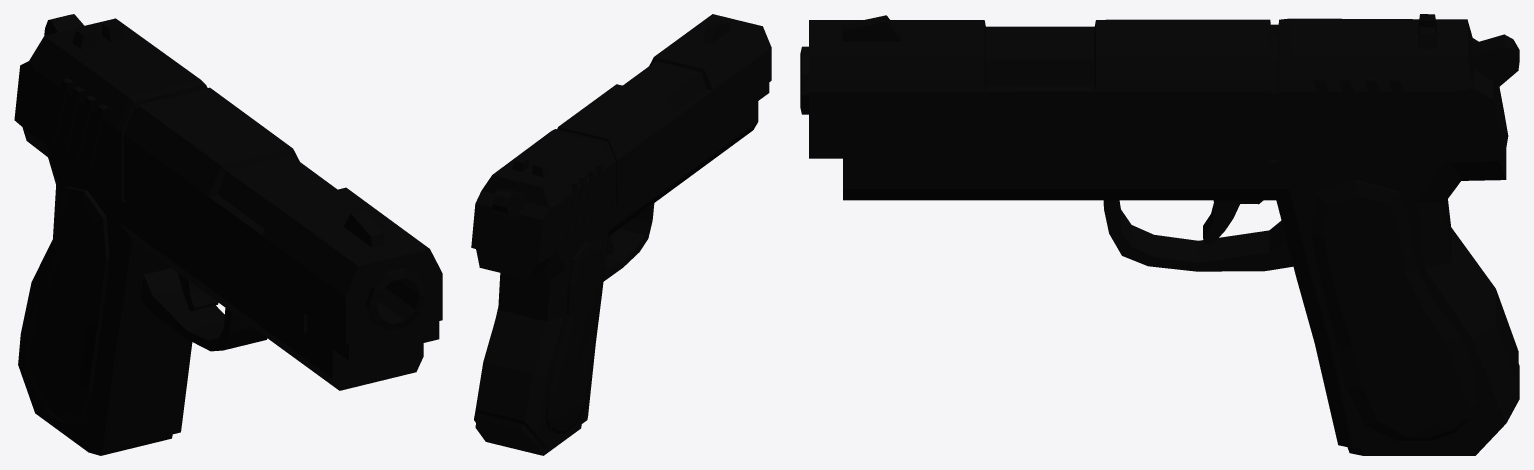
The picture shows the model from 3 angles, left to right: view 1: azimuth 30°, elevation 25°; view 2: azimuth 150°, elevation 25°; view 3: azimuth 270°, elevation 25°; orthographic projection. The views are drawn at different scales.
Visible parts, largest first — view 1: p9; view 2: p9; view 3: p9.
Boxes of the visible parts, x1,y1,x2,y2 form: p9: (14,14,442,455); p9: (471,14,771,455); p9: (800,14,1519,455).
Bounding box in the file's own units: 0.0391 × 0.1405 × 0.22.
Materials: 1 (1 with a texture image).
